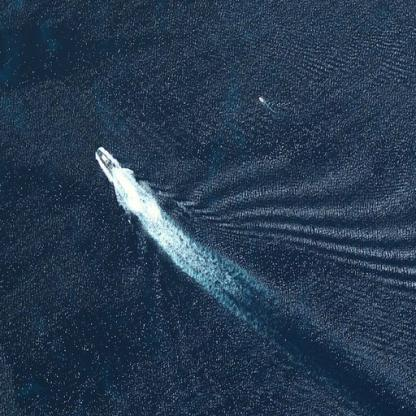ship: (94, 147, 122, 181), (255, 98, 265, 101)
